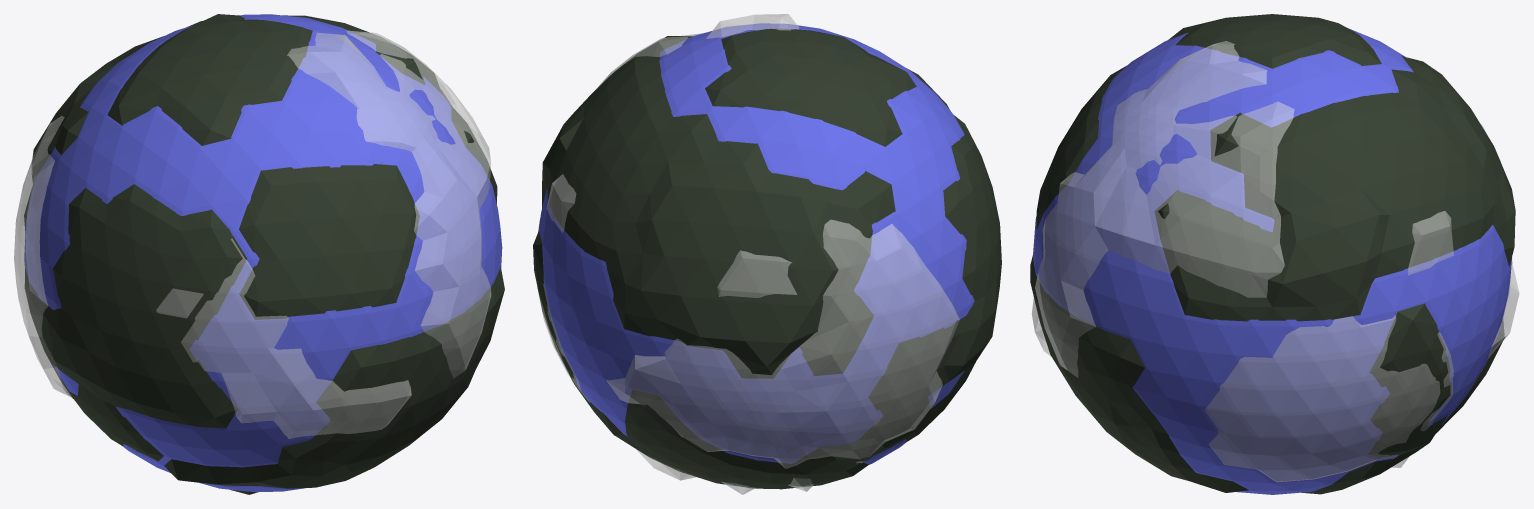
The model's file is planet1.fbx.
The picture shows the model from 3 angles, left to right: view 1: azimuth 30°, elevation 25°; view 2: azimuth 150°, elevation 25°; view 3: azimuth 270°, elevation 25°; orthographic projection. The views are drawn at different scales.
Visible parts, largest first — view 1: Icosphere.001, Icosphere, Icosphere.002; view 2: Icosphere.001, Icosphere, Icosphere.002; view 3: Icosphere, Icosphere.001, Icosphere.002.
Boxes of the visible parts, bbox=[...] form: Icosphere.001: bbox=[24, 14, 504, 494]; Icosphere: bbox=[24, 14, 502, 492]; Icosphere.002: bbox=[14, 30, 491, 438]; Icosphere.001: bbox=[533, 28, 1001, 489]; Icosphere: bbox=[538, 23, 974, 464]; Icosphere.002: bbox=[537, 14, 959, 494]; Icosphere: bbox=[1033, 28, 1511, 494]; Icosphere.001: bbox=[1030, 14, 1515, 494]; Icosphere.002: bbox=[1031, 41, 1519, 482].
Size of the model in its own units: 764 by 760 by 767.
